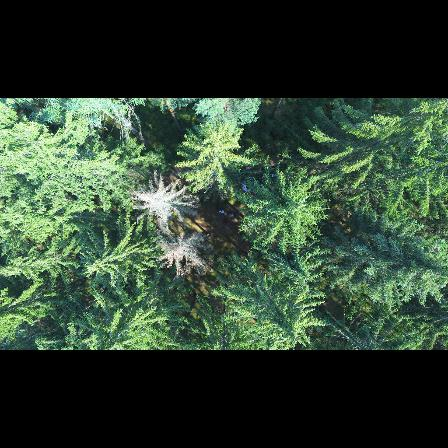Dead: (131, 170, 202, 231), (154, 235, 216, 278)
